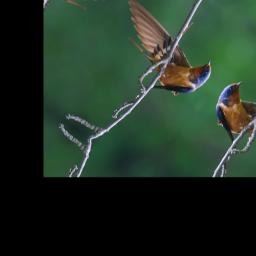Swallow: (89, 0, 225, 115)
